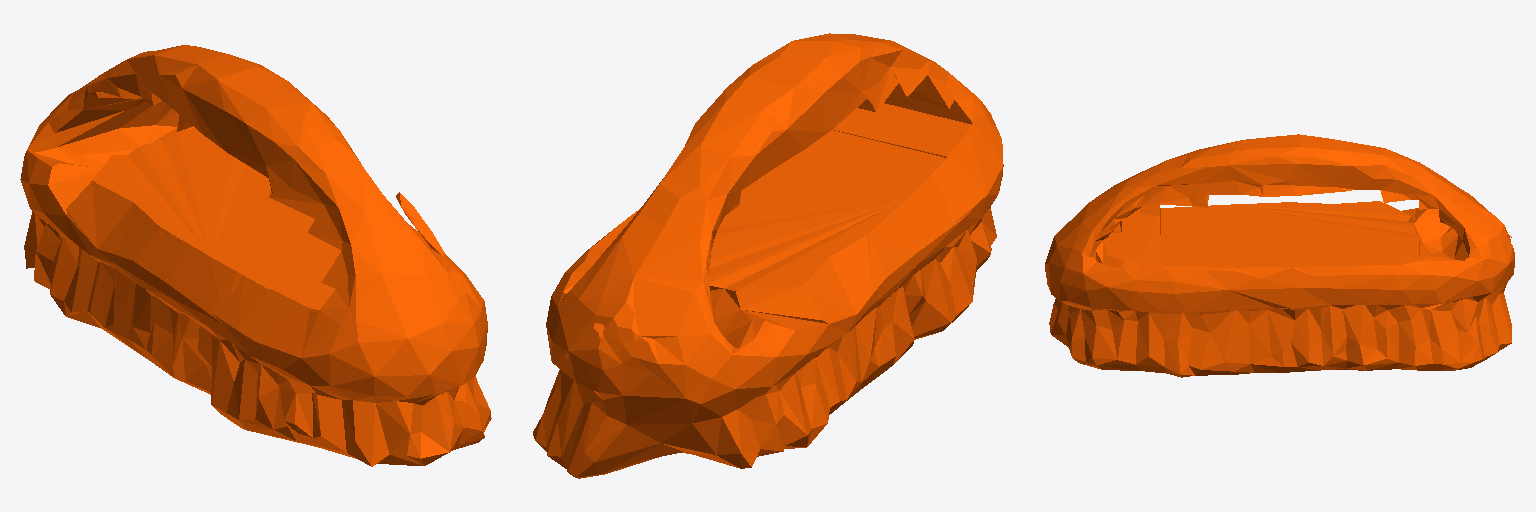
The robot description file, URDF, robot "brush_functional":
<?xml version="1.0" ?>
<robot name="brush_functional">
   <material name="obj_color">
      <color rgba="1.0 0.423529411765 0.0392156862745 1.0"/>
   </material>
   <link name="top">
      <inertial>
         <origin rpy="0.0001781503322568113 0.0007142517451141378 0.0007225915103713969" xyz="-0.001553717503271726 -0.01060005439778169 -0.008810387578648311"/>
         <mass value="0.4721231115317527"/>
         <inertia ixx="0.0007198265938221333" ixy="1.992870302937717e-05" ixz="3.509656230283747e-06" iyy="0.0001788898740794919" iyz="1.977464408661868e-06" izz="0.0007162771198407208"/>
      </inertial>
      <visual>
         <origin rpy="0 0 0" xyz="0 0 0"/>
         <geometry>
            <mesh filename="top_watertight_tiny.stl" scale="1 1 1"/>
         </geometry>
         <material name="obj_color"/>
      </visual>
      <collision>
         <origin rpy="0 0 0" xyz="0 0 0"/>
         <geometry>
            <mesh filename="top_watertight_tiny.obj" scale="1 1 1"/>
         </geometry>
      </collision>
   </link>
   <link name="bottom">
      <inertial>
         <origin rpy="1.633333333199431e-08 1.633333333199431e-08 1.633333333362855e-08" xyz="0.3464080000000008 0.3464080000000008 0.3464080000000008"/>
         <mass value="0.0009800000000000017"/>
         <inertia ixx="1.633333333253906e-08" ixy="5.447480642029219e-19" ixz="5.447480642029219e-19" iyy="1.633333333253906e-08" iyz="5.447480642029219e-19" izz="1.633333333253906e-08"/>
      </inertial>
      <visual>
         <origin rpy="0 0 0" xyz="0 0 0"/>
         <geometry>
            <mesh filename="bottom_watertight_tiny.stl" scale="1 1 1"/>
         </geometry>
         <material name="obj_color"/>
      </visual>
   </link>
   <link name="world"/>
   <joint name="world_to_base" type="fixed">
      <origin xyz="0 0 0"/>
      <axis xyz="0 0 0"/>
      <parent link="world"/>
      <child link="bottom"/>
   </joint>
   <joint name="rotation" type="revolute">
      <origin xyz="0 0 0"/>
      <axis xyz="0 0 -1"/>
      <parent link="bottom"/>
      <child link="top"/>
      <dynamics damping="1.0" friction="1.0"/>
      <limit effort="0.1" velocity="0.1" lower="0" upper="0.001"/>
   </joint>
</robot>

--- What the picture shows (computed from the rendered views, not written in the file) ---
3 views of the same robot in one strip: view 1: azimuth 30°, elevation 25°; view 2: azimuth 150°, elevation 25°; view 3: azimuth 270°, elevation 25° (orthographic).
Robot: brush_functional — 3 links, 2 joints (1 revolute, 1 fixed); root link world; default pose: every joint at zero.
Visible links, largest first — view 1: top; view 2: top; view 3: top.
Link boxes in pixels (x1,y1,x2,y2): top: (20,45,491,466); top: (533,33,1003,478); top: (1045,134,1514,377).
Bounding box of the posed robot: 0.0606 × 0.1442 × 0.0656 m (x, y, z).
1 mesh visuals loaded from 2 distinct referenced files (1 binary STL); not drawn: 1 (reference not matched to a file when rendering).
